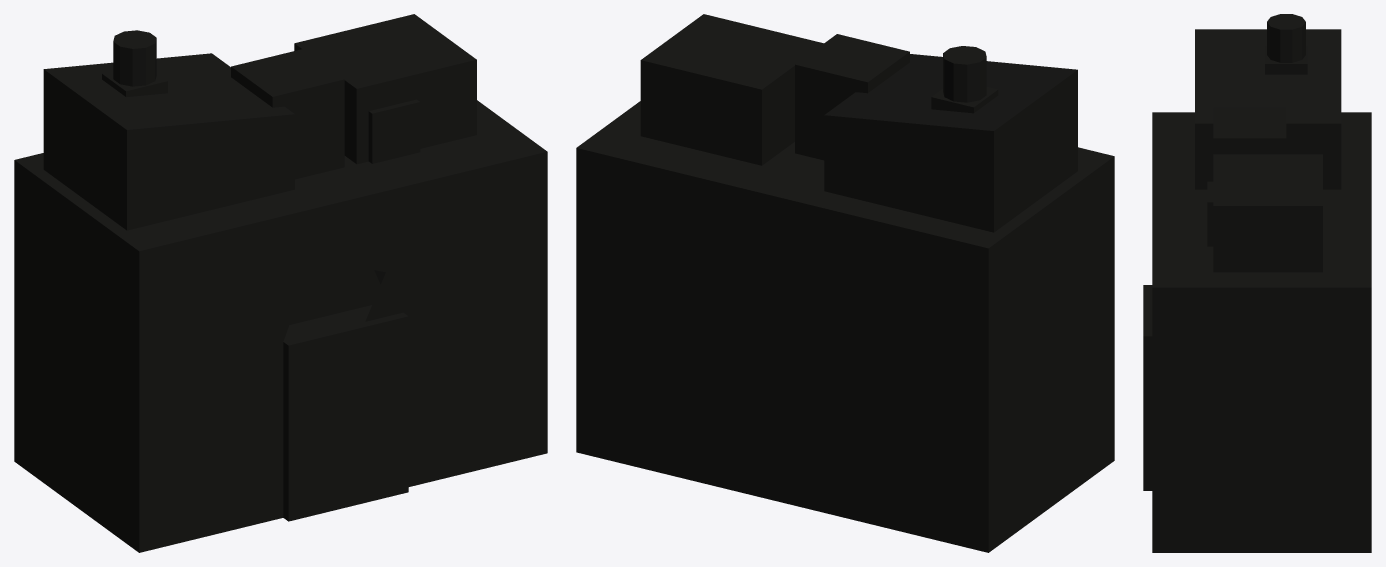
The model's file is building_3.glb.
3 renders of one model, left to right at view 1: azimuth 30°, elevation 25°; view 2: azimuth 150°, elevation 25°; view 3: azimuth 270°, elevation 25°, orthographic. The views are drawn at different scales.
Parts seen in each view (by area): view 1: ChunkBuilding; view 2: ChunkBuilding; view 3: ChunkBuilding.
Boxes of the visible parts, x1,y1,x2,y2 form: ChunkBuilding: (14, 14, 547, 552); ChunkBuilding: (576, 14, 1114, 552); ChunkBuilding: (1143, 14, 1371, 552).
Size of the model in its own units: 34 by 35 by 18.75.
1 material, 1 textured.
